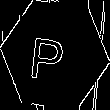P_N: (35, 28, 75, 82)
